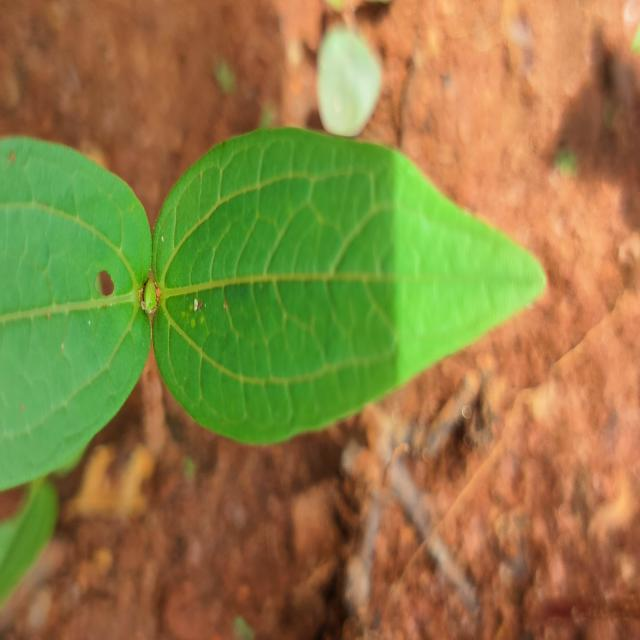Black gram_healthy: (157, 129, 545, 447), (0, 136, 152, 487)
